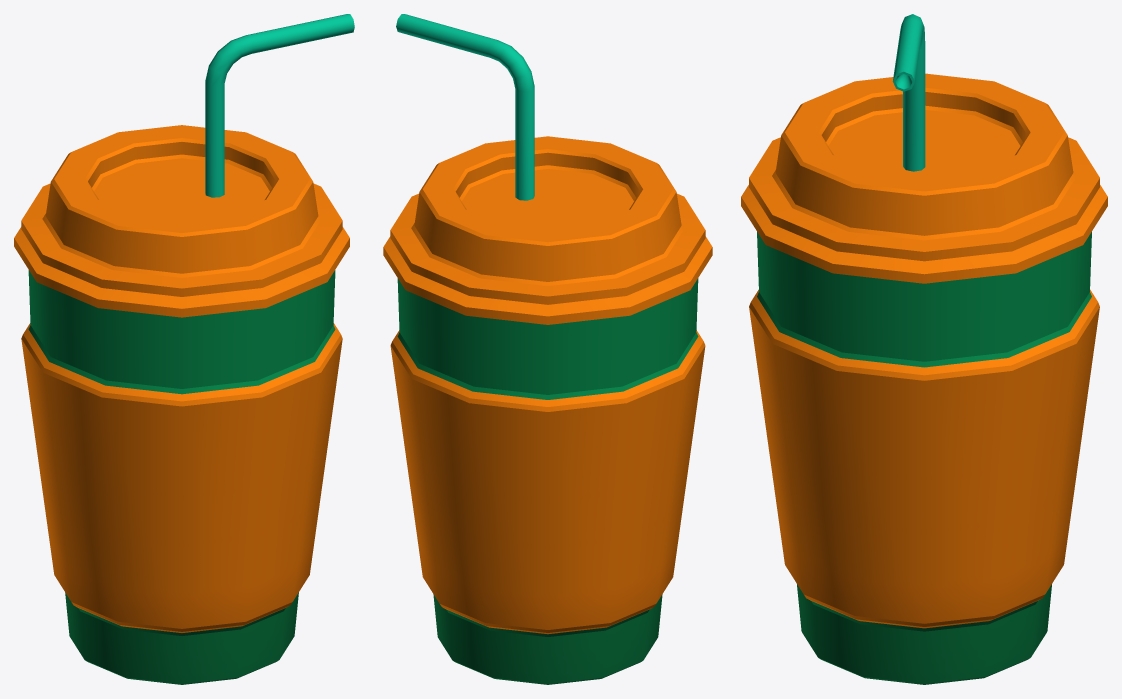
File: Cup_03.fbx
3 views of the same model, side by side, from view 1: azimuth 30°, elevation 25°; view 2: azimuth 150°, elevation 25°; view 3: azimuth 270°, elevation 25° (orthographic). The views are drawn at different scales.
Visible parts, largest first — view 1: Cup_03, Rhsirf_03, Straw_03; view 2: Cup_03, Rhsirf_03, Straw_03; view 3: Cup_03, Rhsirf_03, Straw_03.
Part boxes in pixels (x1,y1,x2,y2): Cup_03: (21,270,342,684); Rhsirf_03: (14,125,349,317); Straw_03: (205,14,354,197); Cup_03: (390,278,705,684); Rhsirf_03: (383,136,712,324); Straw_03: (396,14,534,200); Cup_03: (749,232,1099,684); Rhsirf_03: (741,73,1107,283); Straw_03: (892,14,925,171).
Bounding box in the file's own units: 114 × 212 × 109.
